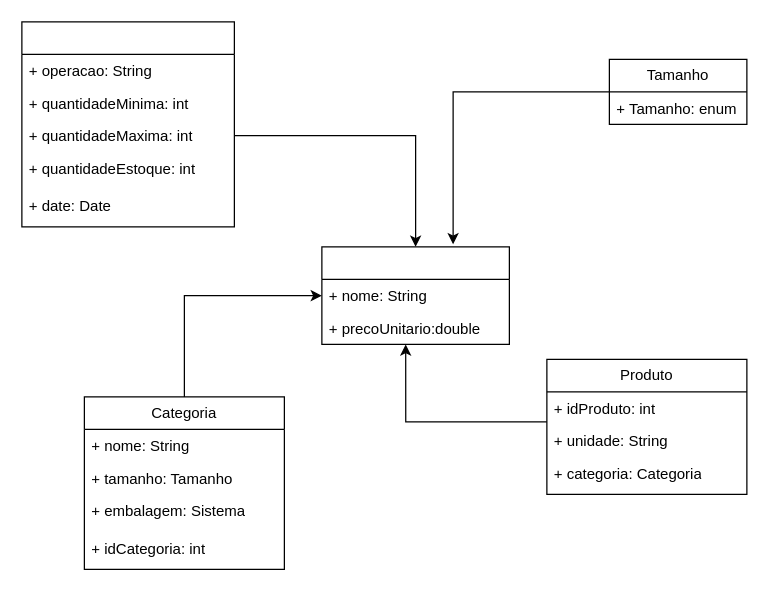
The diagram is 769 pixels wide and 595 high, and some of its shapes have lost their labels. The box of each missing label's shape, as (x1, y1, x2, y2) in pixels:
GerenciamentoEstoque: (21, 21, 234, 227)
ItemEstoque: (321, 246, 509, 344)
